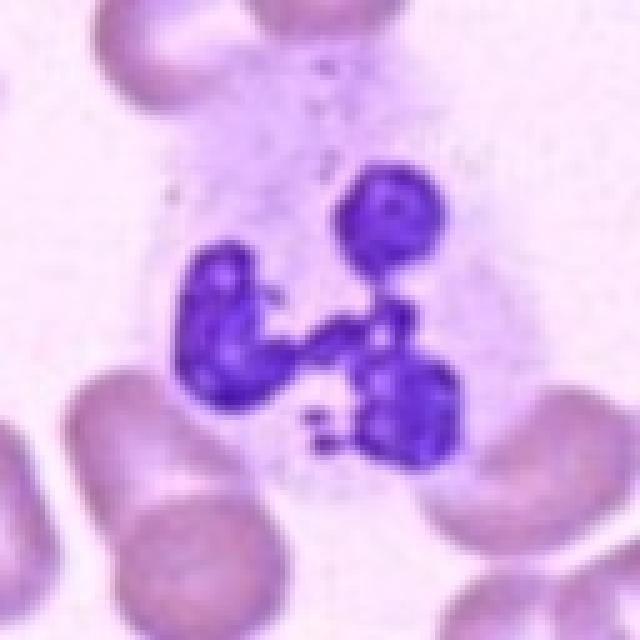neutro: (83, 75, 524, 536)
